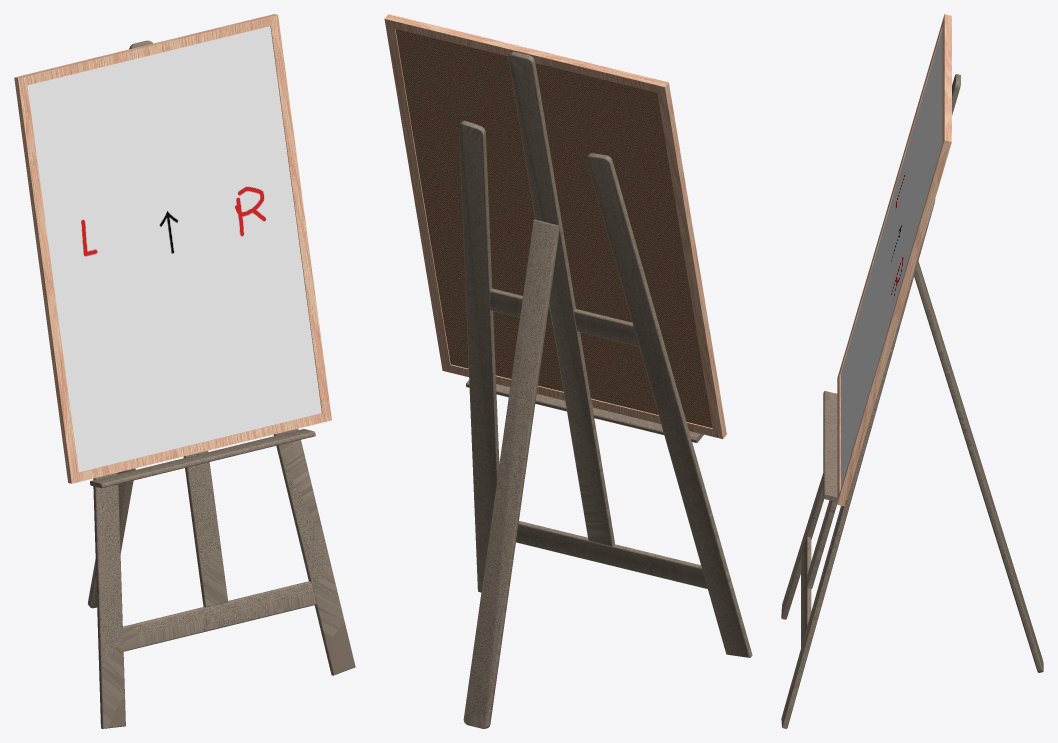
File: CanvasStand.fbx
3 renders of one model, left to right at view 1: azimuth 30°, elevation 25°; view 2: azimuth 150°, elevation 25°; view 3: azimuth 270°, elevation 25°, orthographic. The views are drawn at different scales.
Visible parts, largest first — view 1: Canvas, Stand; view 2: Canvas, Stand; view 3: Canvas, Stand.
Boxes of the visible parts, box(x1,y1,x2,y2) form: Canvas: box(14, 14, 331, 483); Stand: box(88, 40, 355, 728); Canvas: box(384, 14, 726, 438); Stand: box(459, 51, 752, 728); Canvas: box(837, 14, 951, 506); Stand: box(781, 74, 1043, 728).
Size of the model in its own units: 62.3 by 136 by 54.63.
